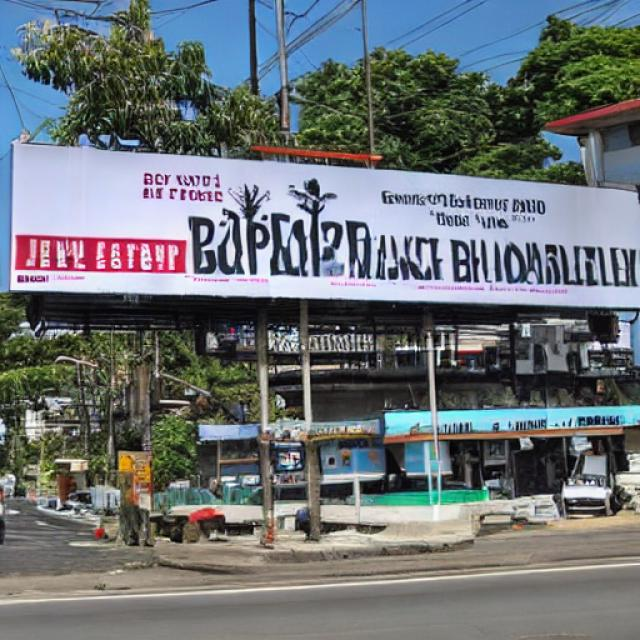Billboard: (5, 138, 640, 314)
